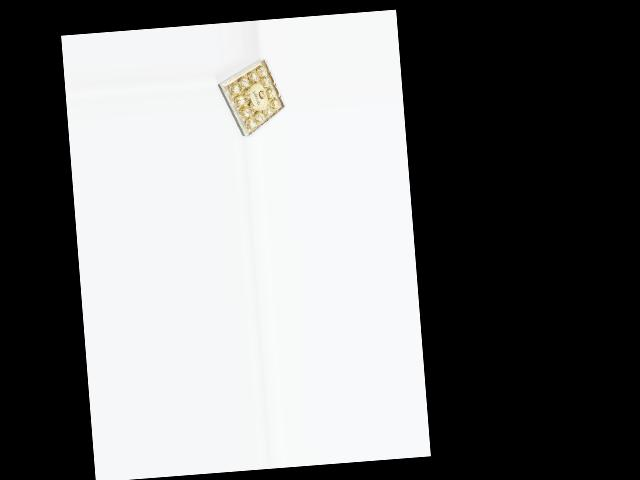chocolate: (214, 56, 288, 140)
